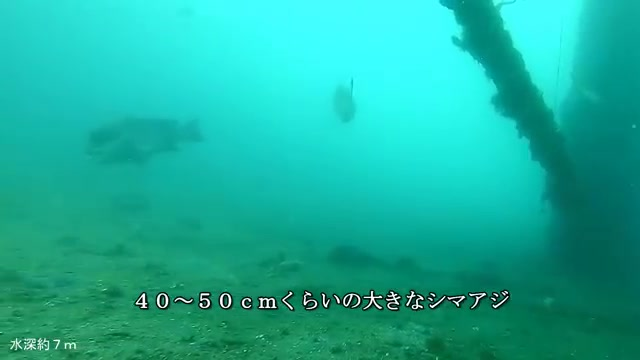smallfish: (77, 109, 213, 173)
